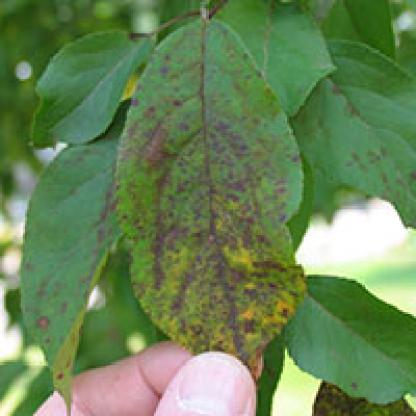apple scab leaf: (116, 21, 308, 376)
